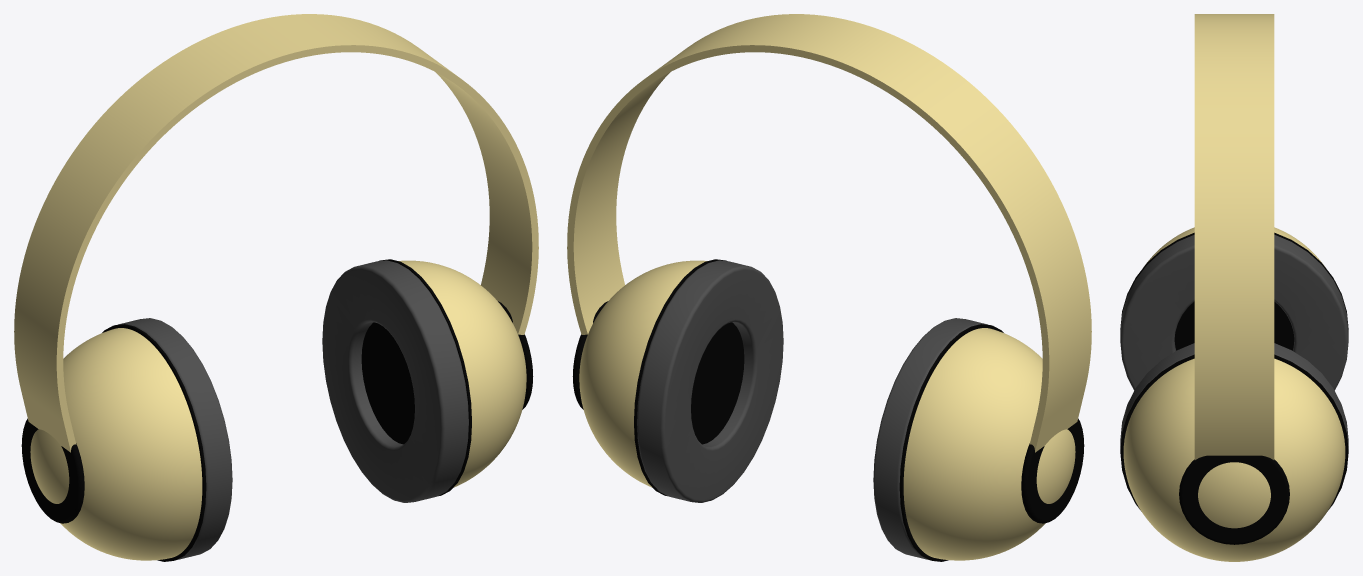
Rendered from headphones.glb.
3 views of the same model, side by side, from view 1: azimuth 30°, elevation 25°; view 2: azimuth 150°, elevation 25°; view 3: azimuth 270°, elevation 25° (orthographic). The views are drawn at different scales.
Visible parts, largest first — view 1: Куб, Сфера_2, Труба_2, Сфера, Труба_3, Диск, Цилиндр_2, Труба, Труба_1; view 2: Куб, Сфера_2, Труба_2, Сфера, Труба_3, Диск, Цилиндр_2, Труба, Труба_1; view 3: Куб, Сфера, Труба_3, Цилиндр, Труба_2, Диск_2, Труба_1, Труба, Сфера_2.
Part boxes in pixels (bbox=[...]): Куб: bbox=[14, 14, 538, 452]; Сфера_2: bbox=[30, 328, 202, 560]; Труба_2: bbox=[322, 260, 468, 502]; Сфера: bbox=[398, 260, 526, 487]; Труба_3: bbox=[117, 318, 232, 559]; Диск: bbox=[361, 322, 414, 444]; Цилиндр_2: bbox=[21, 418, 84, 523]; Труба: bbox=[102, 324, 206, 561]; Труба_1: bbox=[378, 259, 471, 496]; Куб: bbox=[567, 14, 1091, 452]; Сфера_2: bbox=[903, 328, 1075, 560]; Труба_2: bbox=[637, 260, 783, 502]; Сфера: bbox=[579, 260, 707, 487]; Труба_3: bbox=[873, 318, 988, 559]; Диск: bbox=[691, 322, 744, 444]; Цилиндр_2: bbox=[1021, 418, 1084, 523]; Труба: bbox=[899, 324, 1003, 561]; Труба_1: bbox=[634, 259, 727, 496]; Куб: bbox=[1194, 14, 1274, 459]; Сфера: bbox=[1123, 358, 1345, 561]; Труба_3: bbox=[1120, 234, 1348, 390]; Цилиндр: bbox=[1179, 455, 1289, 544]; Труба_2: bbox=[1120, 343, 1348, 448]; Диск_2: bbox=[1174, 301, 1294, 350]; Труба_1: bbox=[1120, 354, 1348, 511]; Труба: bbox=[1120, 232, 1348, 329]; Сфера_2: bbox=[1144, 227, 1324, 266].
Size of the model in its own units: 4.71 by 4.53 by 2.06.
